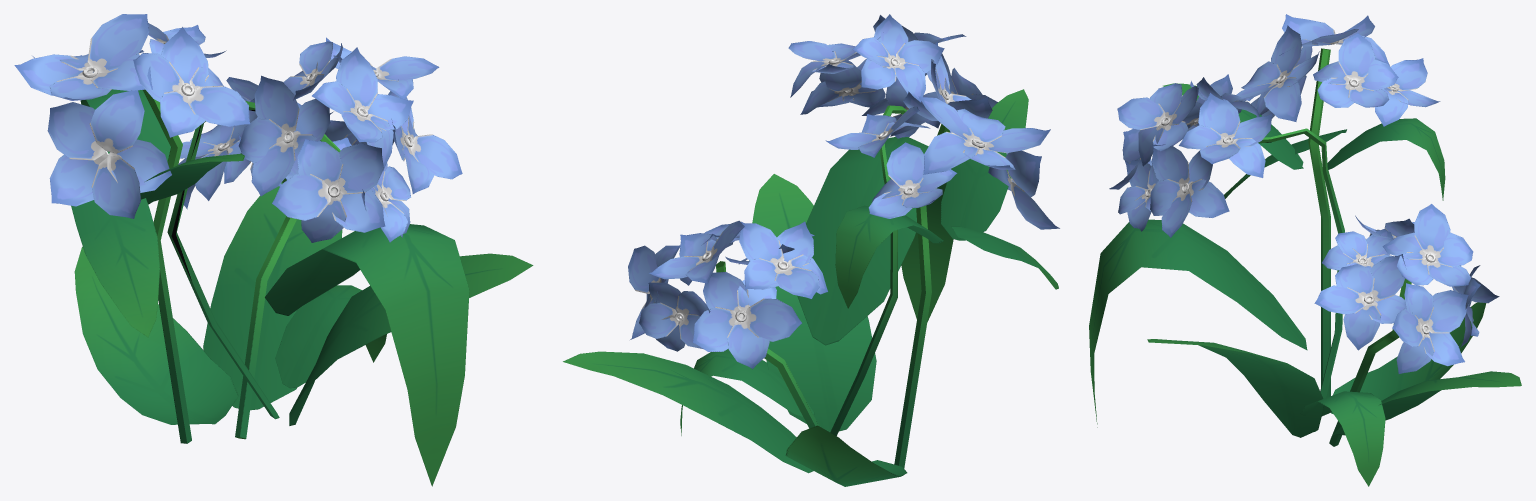
File: SM_Myosotis2.fbx
3 views of the same model, side by side, from view 1: azimuth 30°, elevation 25°; view 2: azimuth 150°, elevation 25°; view 3: azimuth 270°, elevation 25° (orthographic). The views are drawn at different scales.
Visible parts, largest first — view 1: Myosotis_Feuille_16; view 2: Myosotis_Feuille_16; view 3: Myosotis_Feuille_16.
Part boxes in pixels (x1,y1,x2,y2): Myosotis_Feuille_16: (14,14,533,486); Myosotis_Feuille_16: (563,14,1059,486); Myosotis_Feuille_16: (1089,14,1521,486).
Bounding box in the file's own units: 38.35 × 41.84 × 40.27.
1 material, 1 textured.
